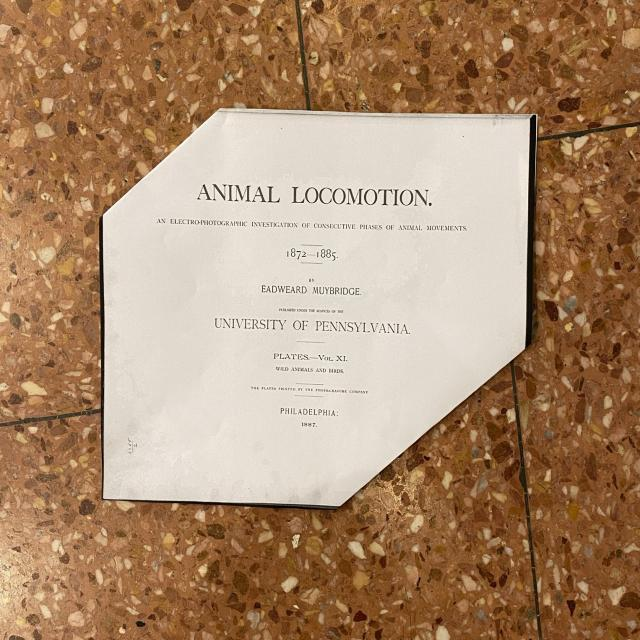document: (100, 110, 536, 507)
